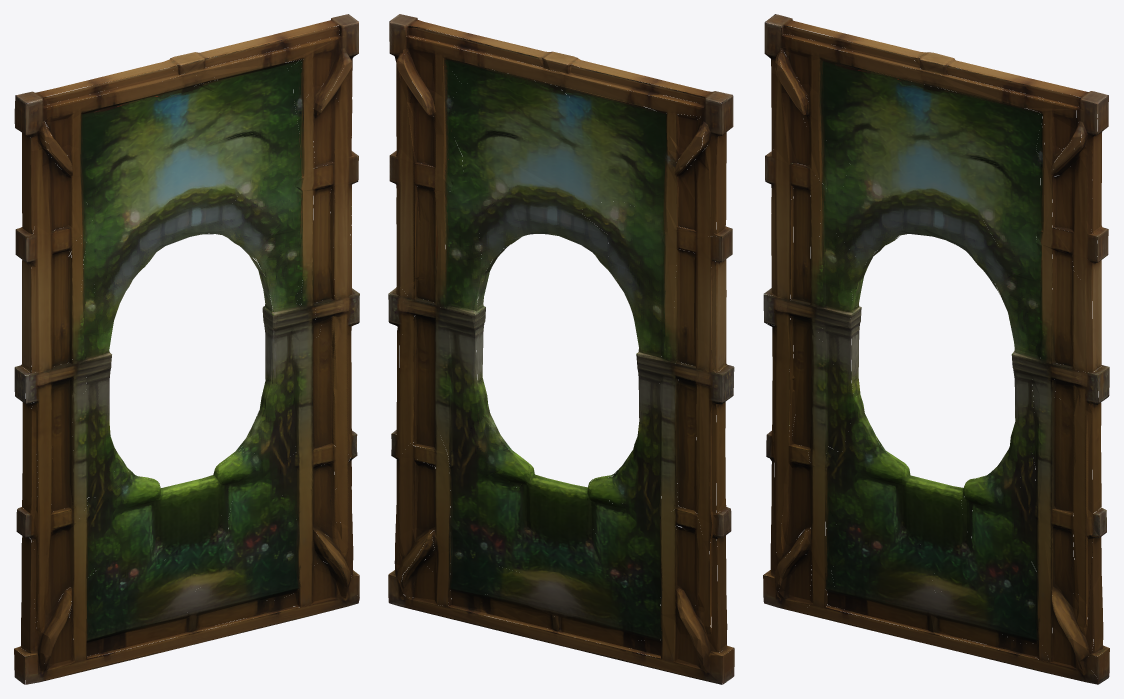
File: set_flat.glb
3 views of the same model, side by side, from view 1: azimuth 30°, elevation 25°; view 2: azimuth 150°, elevation 25°; view 3: azimuth 330°, elevation 25° (orthographic).
Visible parts, largest first — view 1: geometry_0.008; view 2: geometry_0.008; view 3: geometry_0.008.
Part boxes in pixels (x1,y1,x2,y2): geometry_0.008: (14,14,359,684); geometry_0.008: (388,14,734,684); geometry_0.008: (763,14,1109,684).
Bounding box in the file's own units: 0.6023 × 1 × 0.0724.
Materials: 1 (1 with a texture image).
